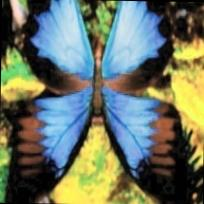butterfly: (4, 0, 203, 204)
